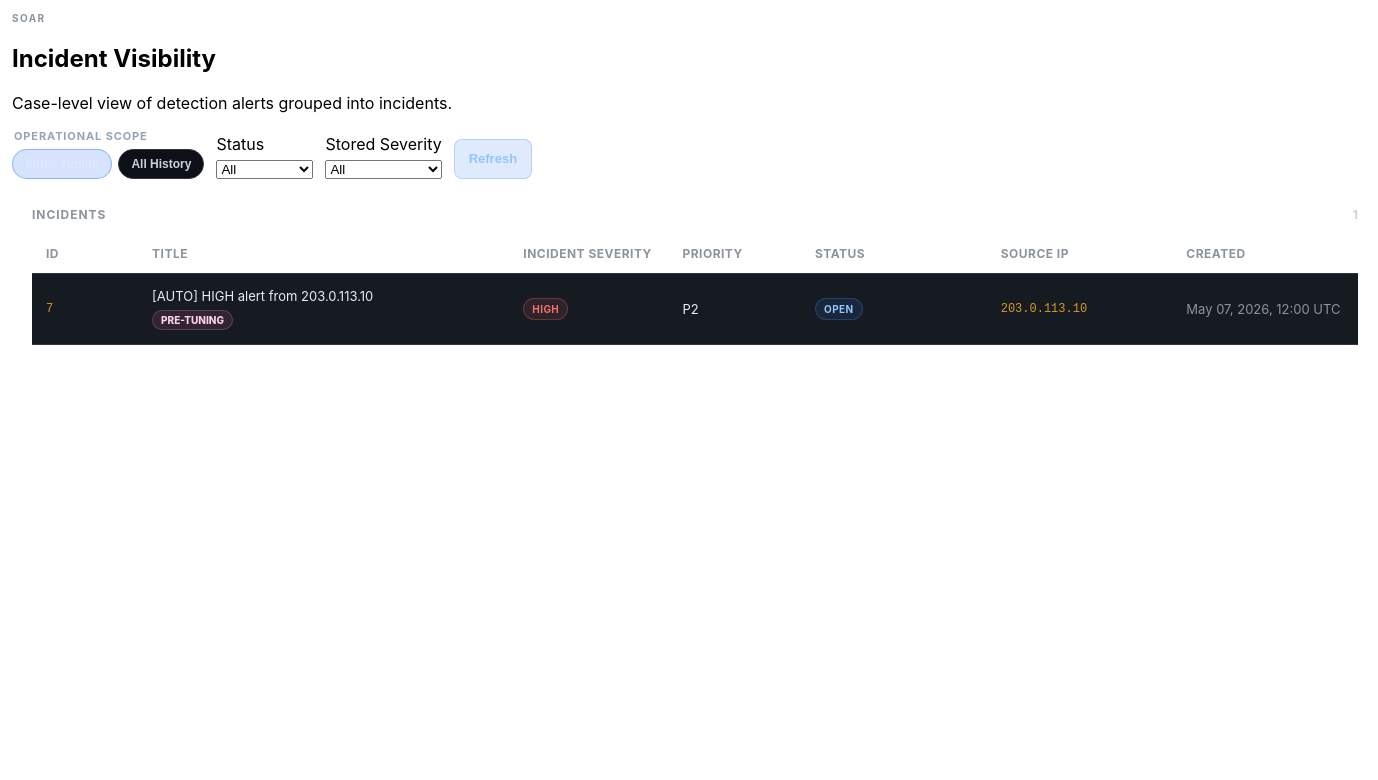
Test: IncidentsPanel › renders no linked alerts state
Click the text "[AUTO] HIGH alert from 203.0.113.10" at (263, 296), box [152,288,373,304]
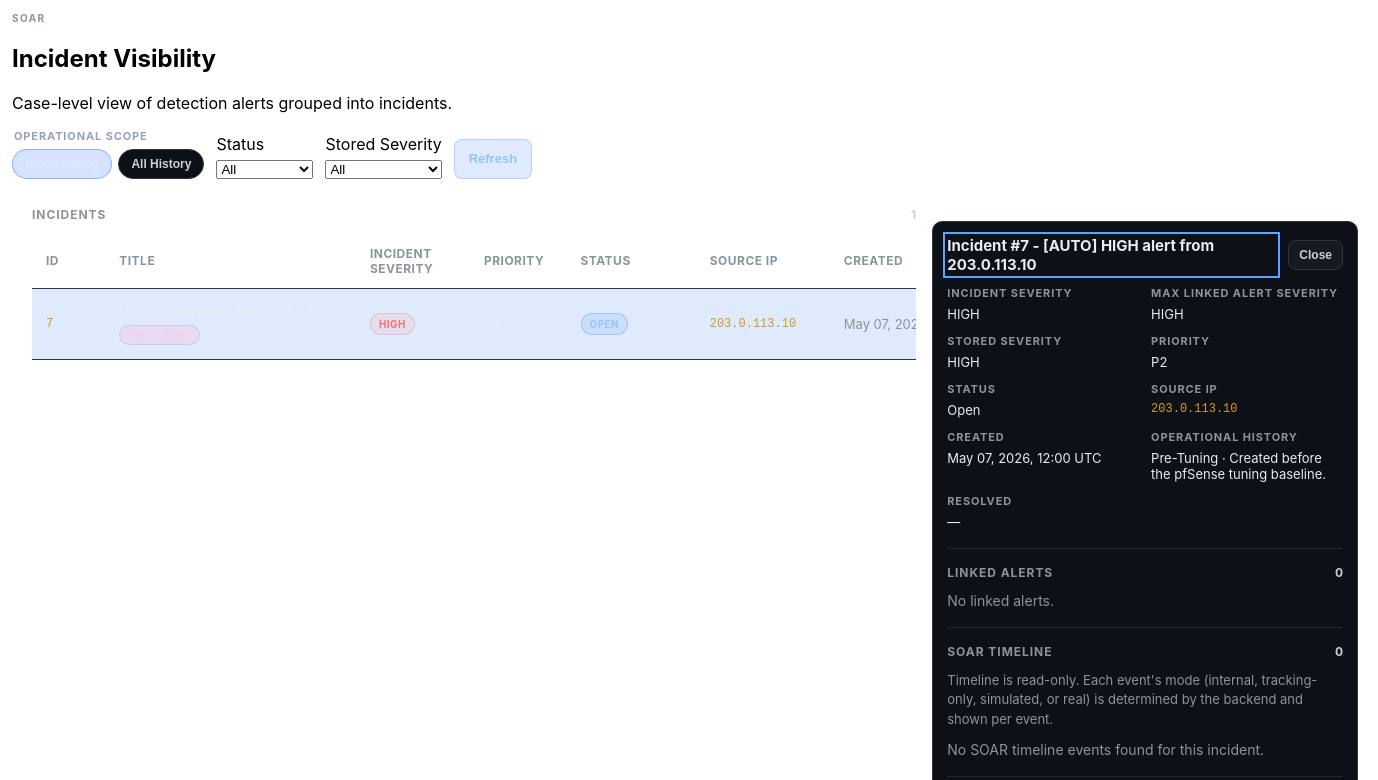
Result: the text "No linked alerts." is shown at [947,592,1054,609]
